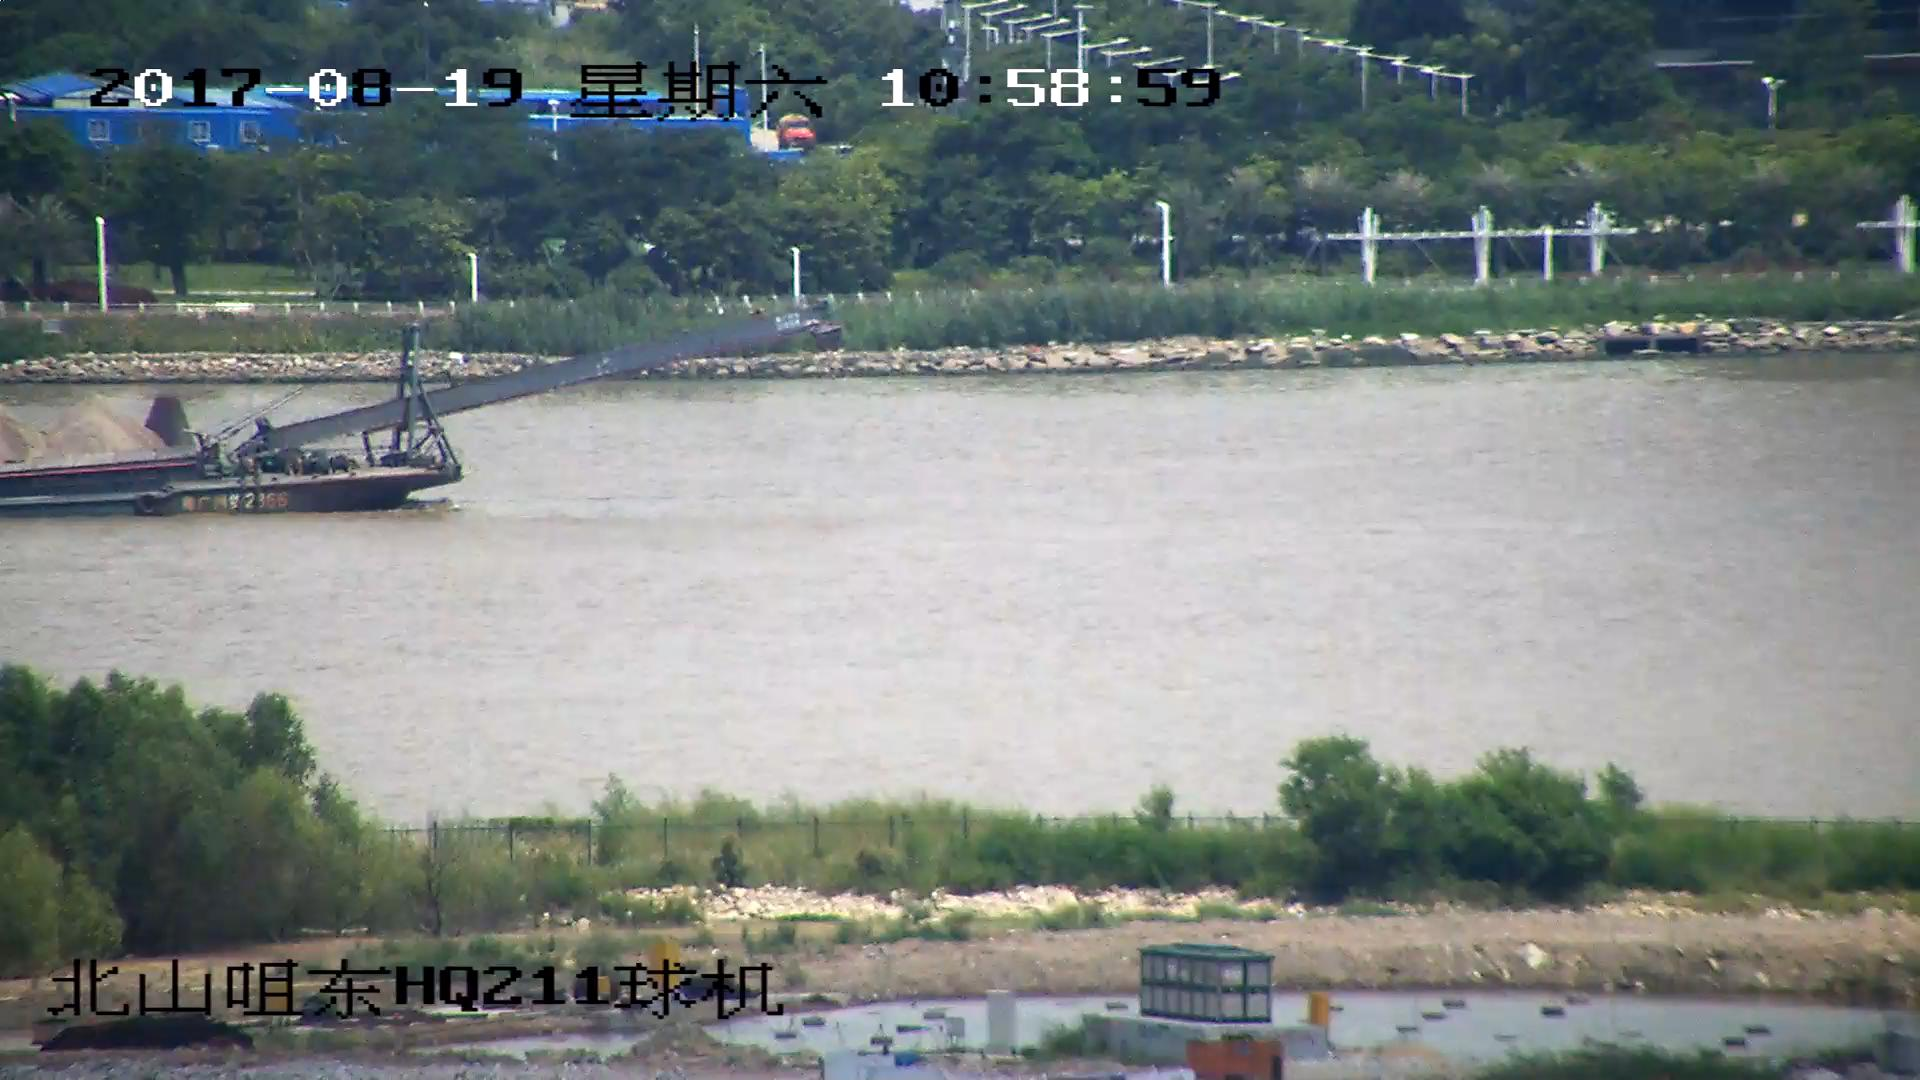ore carrier: (1, 312, 822, 515)
